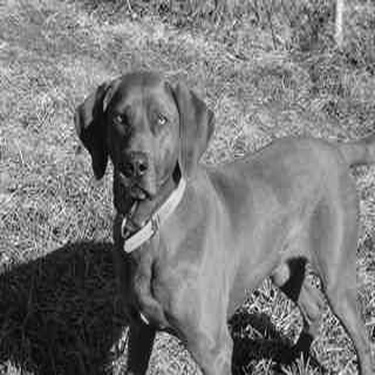dog: (64, 59, 369, 371)
